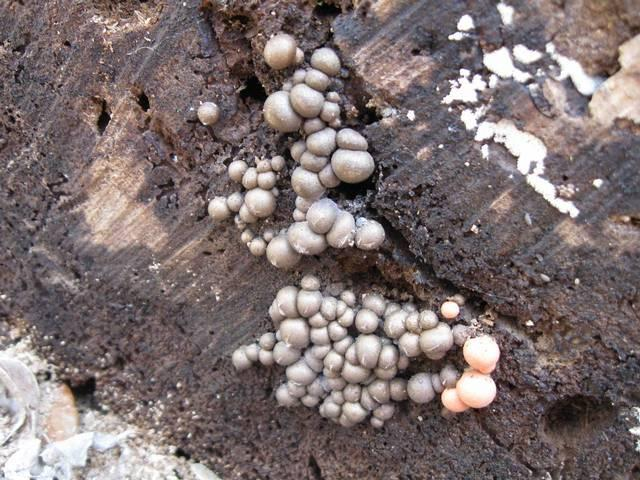Non-edible Mushroom: (203, 29, 501, 428), (206, 31, 386, 270), (230, 272, 500, 428), (440, 333, 501, 413), (455, 369, 496, 408), (461, 334, 500, 373), (261, 31, 297, 70), (196, 100, 220, 126)
